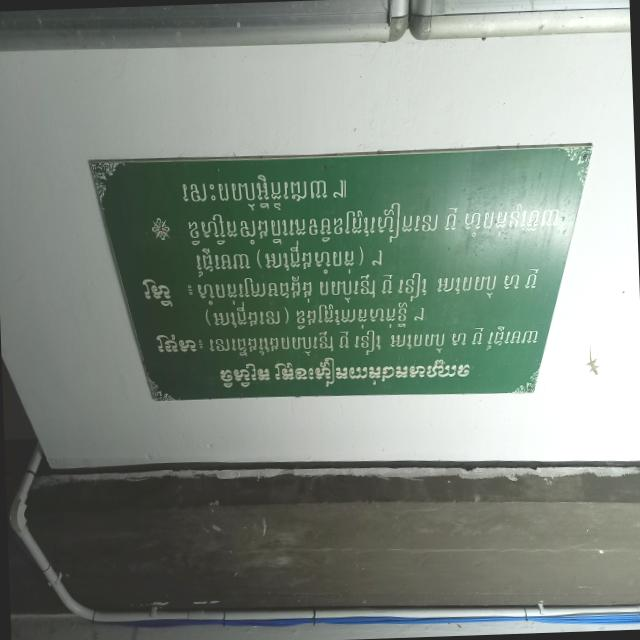1: (194, 239, 386, 277), (205, 299, 433, 328)
2: (185, 200, 563, 246)
5: (140, 269, 540, 308)
6: (153, 328, 539, 358)
Yolov11kh: (215, 356, 483, 391), (179, 172, 350, 207)
